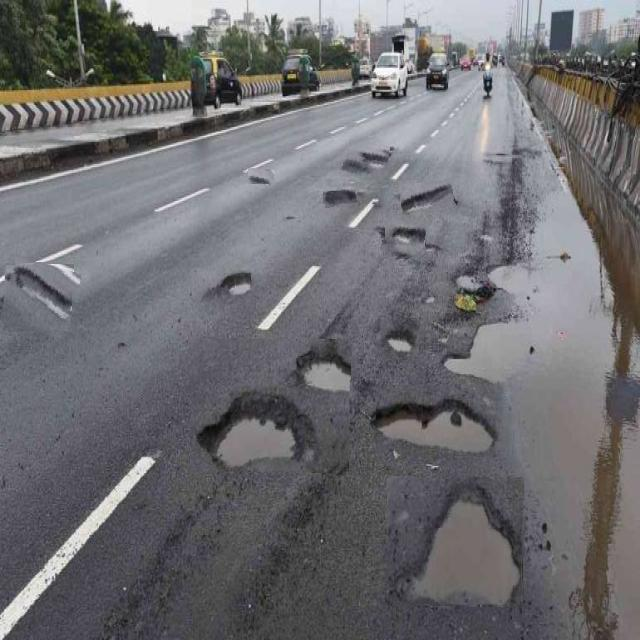Pothole: (190, 338, 350, 474), (386, 477, 524, 607), (376, 385, 516, 466), (2, 261, 78, 336), (343, 135, 389, 185), (400, 181, 456, 219), (382, 215, 426, 259), (378, 316, 419, 360), (217, 258, 251, 305), (323, 189, 358, 206), (247, 170, 275, 186)
